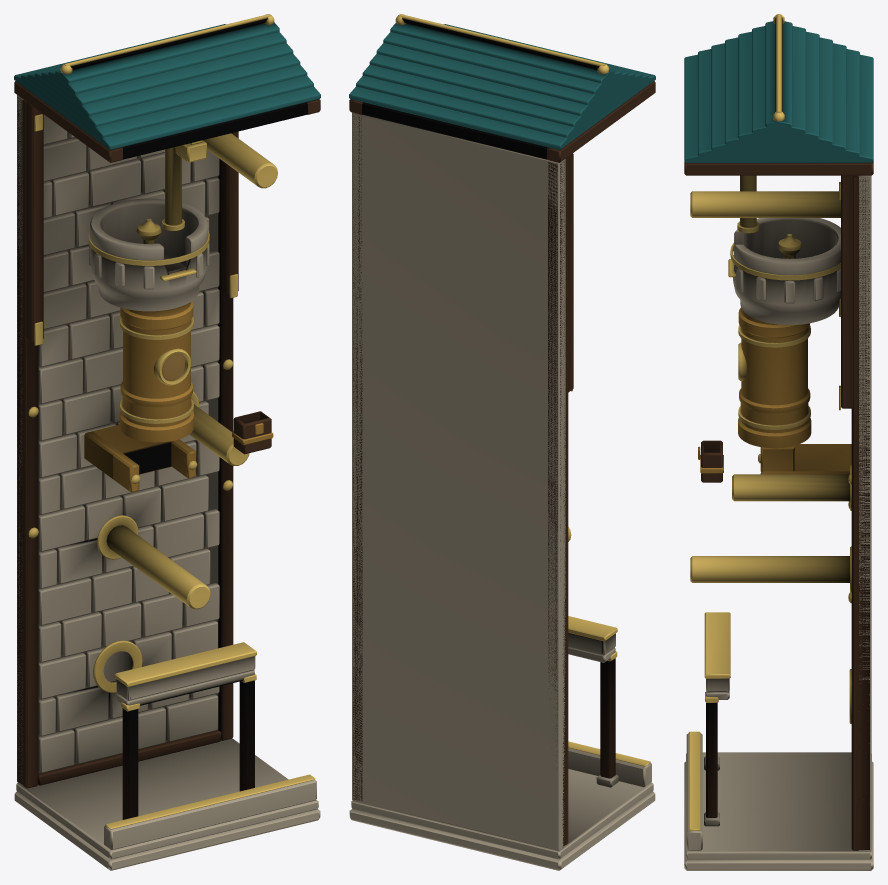
Rendered from well_base.glb.
The picture shows the model from 3 angles, left to right: view 1: azimuth 30°, elevation 25°; view 2: azimuth 150°, elevation 25°; view 3: azimuth 270°, elevation 25°; orthographic projection.
Visible parts, largest first — view 1: Well_Plate, Pump_Barrel, Bucket_Template; view 2: Well_Plate; view 3: Well_Plate, Pump_Barrel, Bucket_Template, Well_Nozzle.
Boxes of the visible parts, box(x1,y1,x2,y2) form: Well_Plate: box(14, 14, 320, 870); Pump_Barrel: box(119, 301, 194, 442); Bucket_Template: box(232, 411, 273, 454); Well_Plate: box(349, 14, 655, 870); Well_Plate: box(684, 14, 873, 870); Pump_Barrel: box(738, 308, 811, 448); Bucket_Template: box(698, 440, 723, 482); Well_Nozzle: box(777, 234, 802, 258).
Size of the model in its own units: 0.066 by 0.23 by 0.052.
